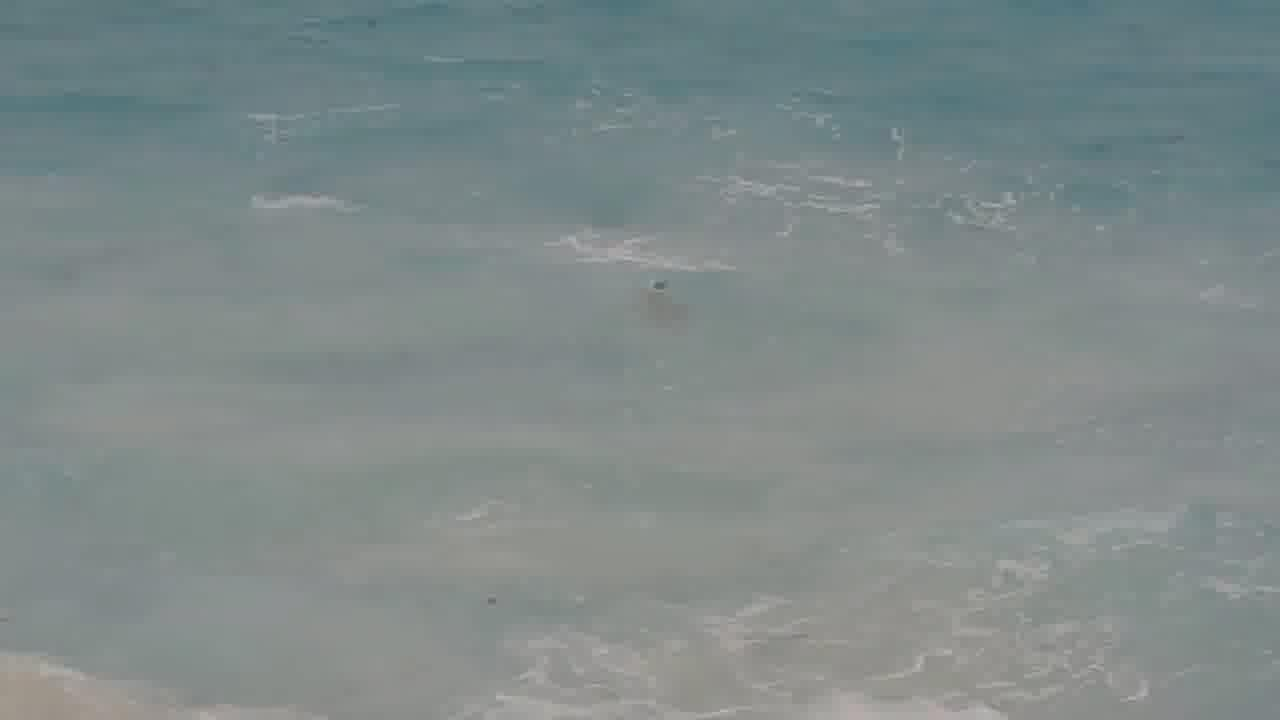human: (643, 258, 686, 323)
